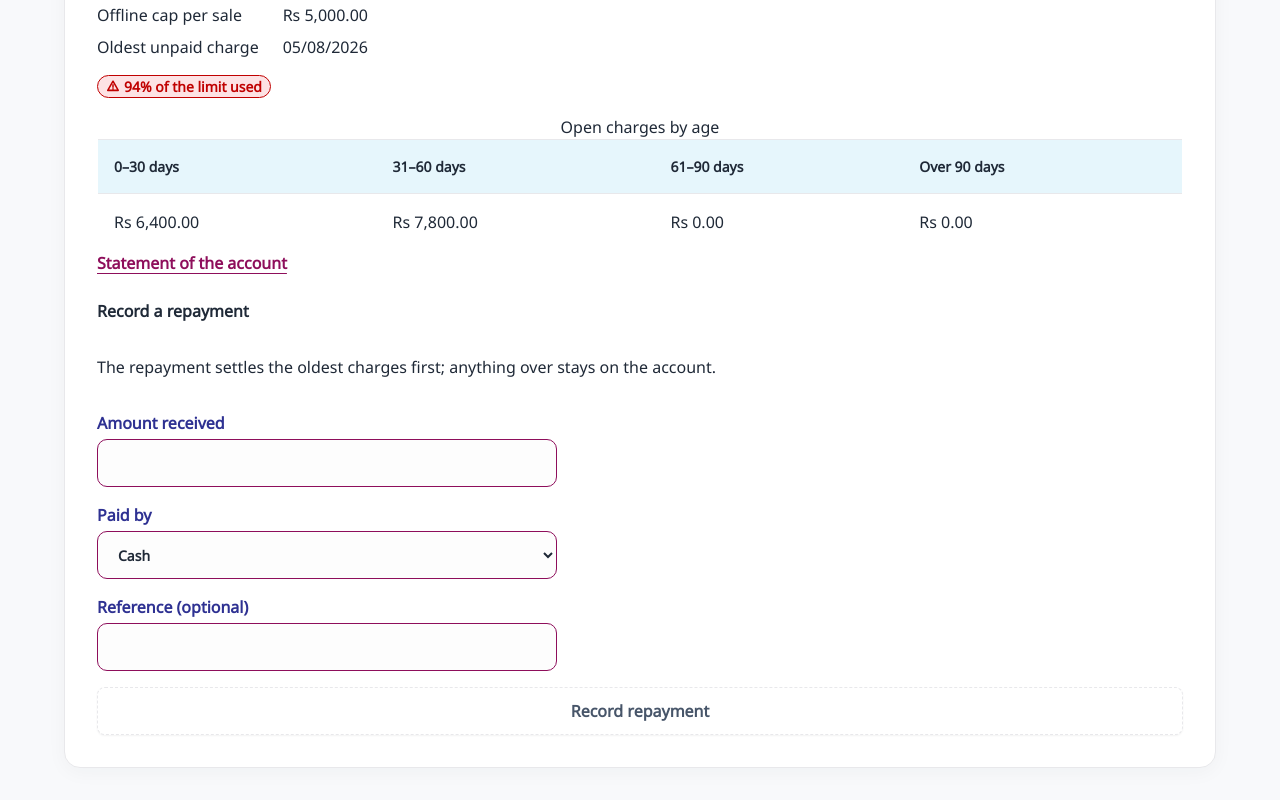
it: the customer card › shows the account near its limit and records a repayment at the office
(page scrolled)
Type "2000" into the number field labelled "Amount received" at (327, 463), box top-left (97, 439), bottom-right (557, 487)
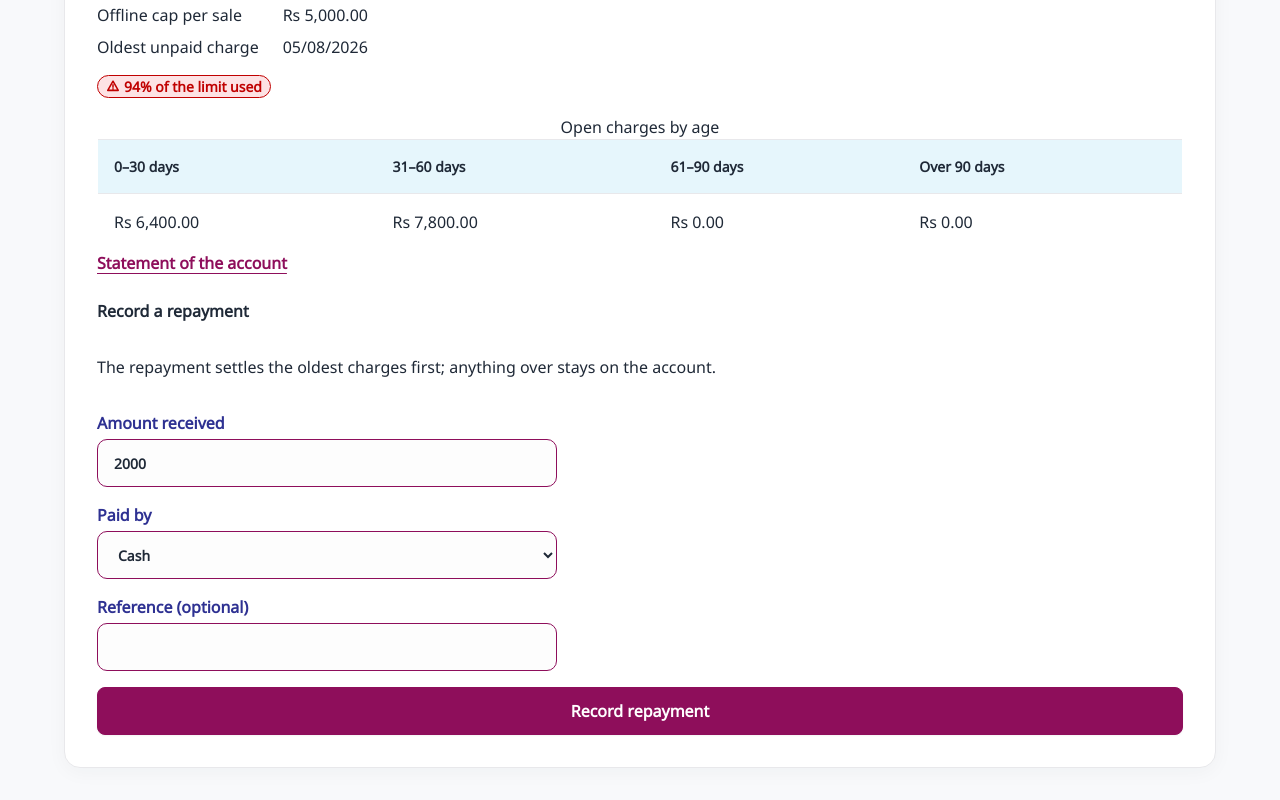
Select "Bank transfer" in the dropdown labelled "Paid by" at (327, 555), box top-left (97, 531), bottom-right (557, 579)
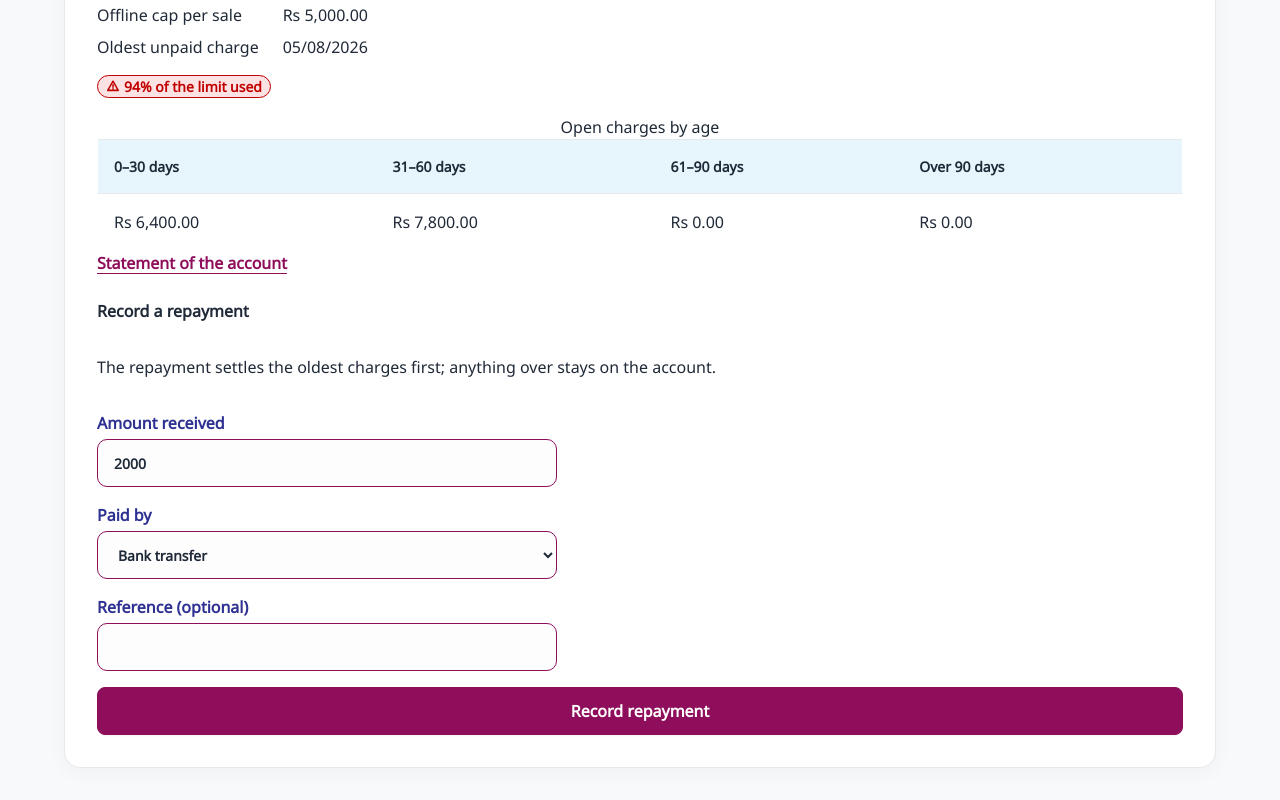
Click the button "Record repayment" at (640, 711), box top-left (97, 687), bottom-right (1183, 735)
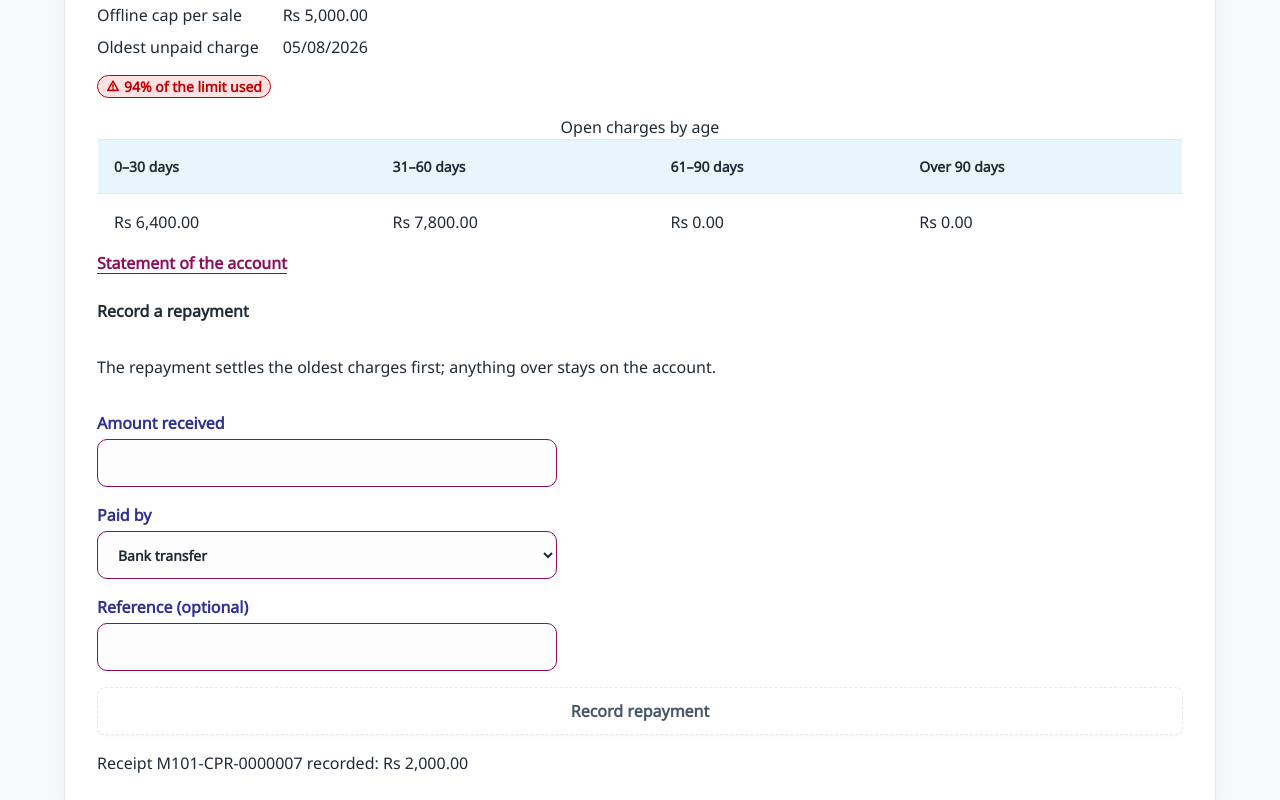
Expected: the message "Receipt M101-CPR-0000007 recorded: Rs 2,000.00" is shown, top-left (97, 752), bottom-right (468, 774)
Expected: the message shows "M101-CPR-0000007", top-left (97, 752), bottom-right (379, 774)
